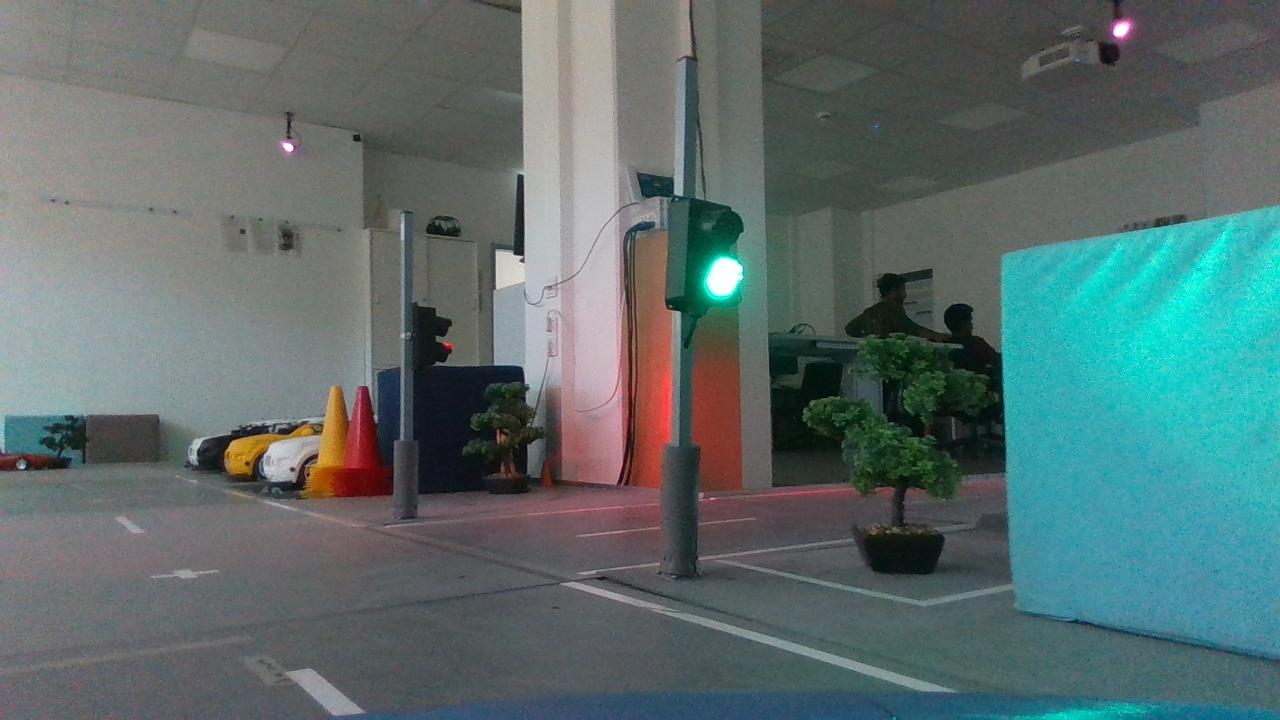traffic_light_green: (648, 184, 764, 325)
